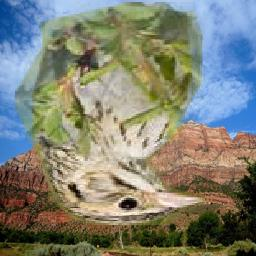Sparrow: (15, 3, 205, 226)
